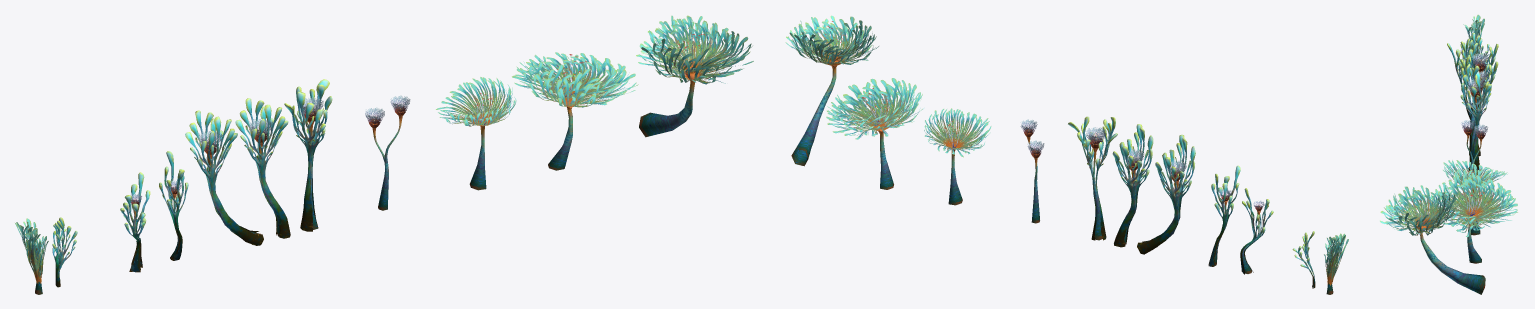
The model's file is Paddle Ferns.fbx.
3 renders of one model, left to right at view 1: azimuth 30°, elevation 25°; view 2: azimuth 150°, elevation 25°; view 3: azimuth 270°, elevation 25°, orthographic. The views are drawn at different scales.
Visible parts, largest first — view 1: mesh_LOD1_0.005, mesh_LOD1_0.002, mesh_LOD1_0.016, mesh_LOD1_0.013, mesh_LOD1_0.003, mesh_LOD1_0.012, mesh_LOD1_0.015, mesh_LOD1_0.009, mesh_LOD1_0.014, mesh_LOD1_0.004, mesh_LOD1_0.011, mesh_LOD1_0.006 (+3 smaller); view 2: mesh_LOD1_0.002, mesh_LOD1_0.005, mesh_LOD1_0.003, mesh_LOD1_0.016, mesh_LOD1_0.013, mesh_LOD1_0.012, mesh_LOD1_0.009, mesh_LOD1_0.014, mesh_LOD1_0.015, mesh_LOD1_0.004, mesh_LOD1_0.006, mesh_LOD1_0.001 (+3 smaller); view 3: mesh_LOD1_0.002, mesh_LOD1_0.005, mesh_LOD1_0.012, mesh_LOD1_0.009, mesh_LOD1_0.003, mesh_LOD1_0.016, mesh_LOD1_0.013, mesh_LOD1_0.014, mesh_LOD1_0.004, mesh_LOD1_0.001, mesh_LOD1_0.006, mesh_LOD1_0.011 (+5 smaller).
Part boxes in pixels (x1=…): mesh_LOD1_0.005: x1=636, y1=15, x2=753, y2=84; mesh_LOD1_0.002: x1=512, y1=52, x2=638, y2=107; mesh_LOD1_0.016: x1=185, y1=110, x2=263, y2=245; mesh_LOD1_0.013: x1=235, y1=98, x2=290, y2=238; mesh_LOD1_0.003: x1=436, y1=77, x2=516, y2=126; mesh_LOD1_0.012: x1=284, y1=79, x2=332, y2=231; mesh_LOD1_0.015: x1=120, y1=172, x2=150, y2=272; mesh_LOD1_0.009: x1=639, y1=71, x2=699, y2=137; mesh_LOD1_0.014: x1=159, y1=151, x2=188, y2=260; mesh_LOD1_0.004: x1=15, y1=218, x2=48, y2=283; mesh_LOD1_0.011: x1=52, y1=217, x2=77, y2=287; mesh_LOD1_0.006: x1=548, y1=98, x2=575, y2=170; mesh_LOD1_0.002: x1=826, y1=78, x2=923, y2=139; mesh_LOD1_0.005: x1=785, y1=15, x2=878, y2=65; mesh_LOD1_0.003: x1=924, y1=108, x2=991, y2=157; mesh_LOD1_0.016: x1=1137, y1=134, x2=1195, y2=254; mesh_LOD1_0.013: x1=1112, y1=124, x2=1153, y2=247; mesh_LOD1_0.012: x1=1068, y1=116, x2=1117, y2=240; mesh_LOD1_0.009: x1=791, y1=60, x2=839, y2=166; mesh_LOD1_0.014: x1=1208, y1=165, x2=1240, y2=266; mesh_LOD1_0.015: x1=1240, y1=188, x2=1273, y2=274; mesh_LOD1_0.004: x1=1324, y1=233, x2=1348, y2=285; mesh_LOD1_0.006: x1=874, y1=125, x2=893, y2=189; mesh_LOD1_0.001: x1=1020, y1=119, x2=1044, y2=157; mesh_LOD1_0.002: x1=1434, y1=174, x2=1517, y2=236; mesh_LOD1_0.005: x1=1380, y1=185, x2=1459, y2=235; mesh_LOD1_0.012: x1=1460, y1=64, x2=1491, y2=174; mesh_LOD1_0.009: x1=1416, y1=225, x2=1485, y2=294; mesh_LOD1_0.003: x1=1443, y1=160, x2=1507, y2=188; mesh_LOD1_0.016: x1=1460, y1=38, x2=1498, y2=156; mesh_LOD1_0.013: x1=1460, y1=56, x2=1498, y2=163; mesh_LOD1_0.014: x1=1447, y1=43, x2=1477, y2=119; mesh_LOD1_0.004: x1=1463, y1=14, x2=1484, y2=62; mesh_LOD1_0.001: x1=1461, y1=120, x2=1487, y2=138; mesh_LOD1_0.006: x1=1467, y1=215, x2=1481, y2=263; mesh_LOD1_0.011: x1=1468, y1=33, x2=1490, y2=68.
Bounding box in the file's own units: 17.01 × 3.46 × 4.13.
